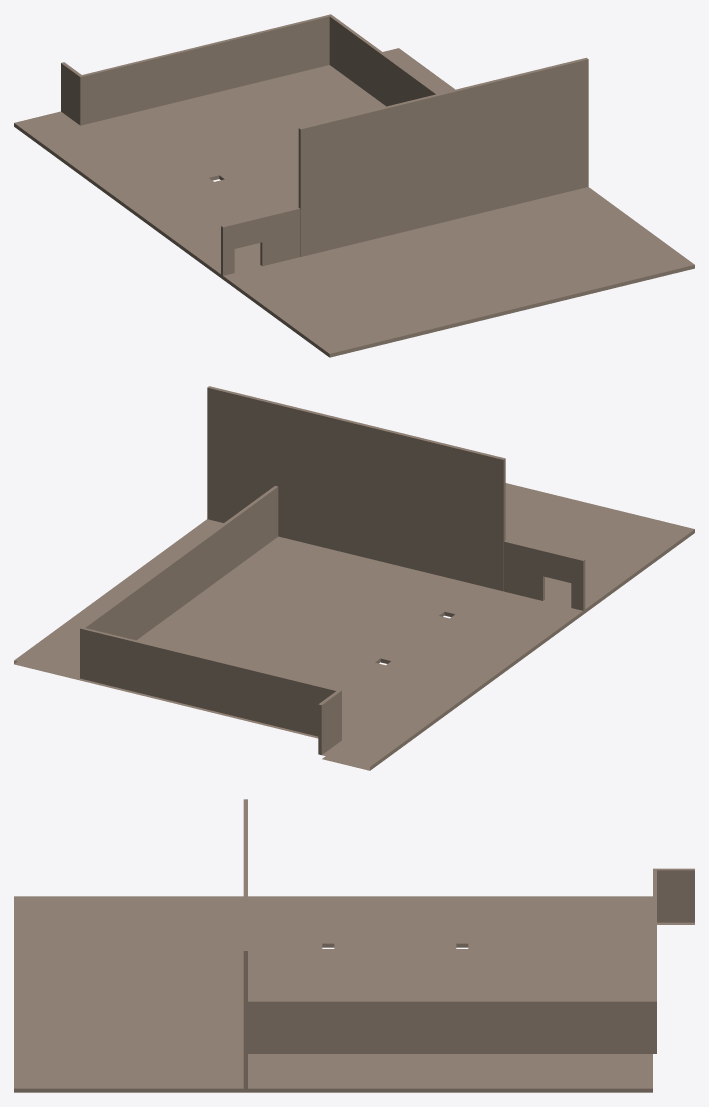
File: floor.fbx
3 views of the same model, one above another, from view 1: azimuth 30°, elevation 25°; view 2: azimuth 150°, elevation 25°; view 3: azimuth 270°, elevation 25° (orthographic). The views are drawn at different scales.
Parts seen in each view (by area): view 1: Object033, SM_Wall019, Object032, SM_Wall001, SM_Wall007, Object035; view 2: Object033, SM_Wall019, Object032, SM_Wall001, SM_Wall007, Object035; view 3: Object033, Object032, SM_Wall007, SM_Wall001, SM_Wall019.
Boxes of the visible parts, x1,y1,x2,y2 form: Object033: (115,153,694,357); SM_Wall019: (298,57,588,256); Object032: (14,48,454,200); SM_Wall001: (61,14,332,125); SM_Wall007: (329,15,438,106); Object035: (221,207,300,275); Object033: (99,483,694,693); SM_Wall019: (207,386,505,591); Object032: (14,598,474,770); SM_Wall001: (80,627,341,755); SM_Wall007: (82,486,278,640); Object035: (504,540,585,610); Object033: (14,896,475,1092); Object032: (475,896,694,1092); SM_Wall007: (248,1000,652,1053); SM_Wall001: (653,868,694,1053); SM_Wall019: (243,799,247,1088).
Size of the model in its own units: 114 by 39.35 by 171.
